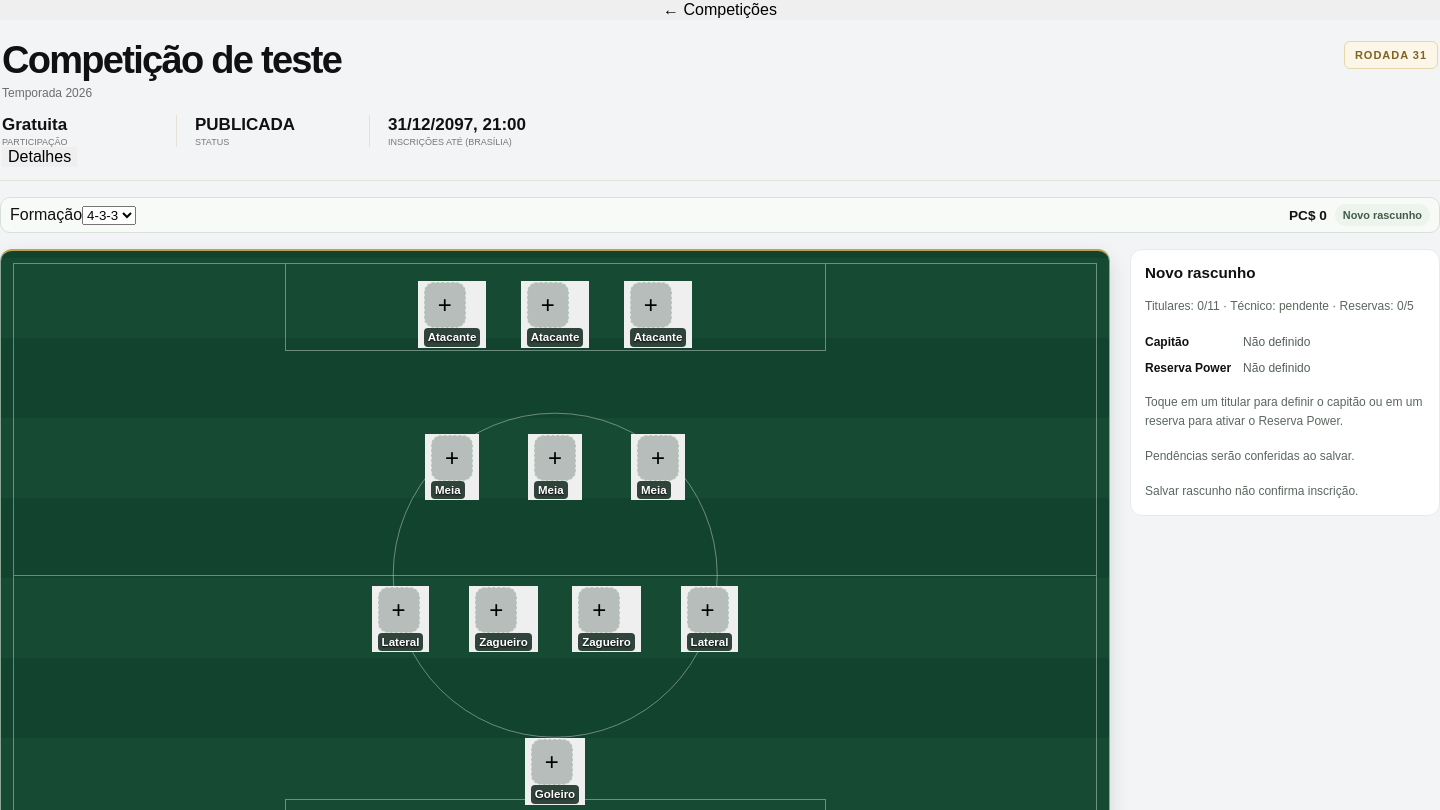
Test: Server public identity › cancels without losing formation or posting
Select "3-5-2" in the dropdown named "Formação tática" at (109, 215), box x1=82 y1=206 x2=136 y2=225
(page scrolled)
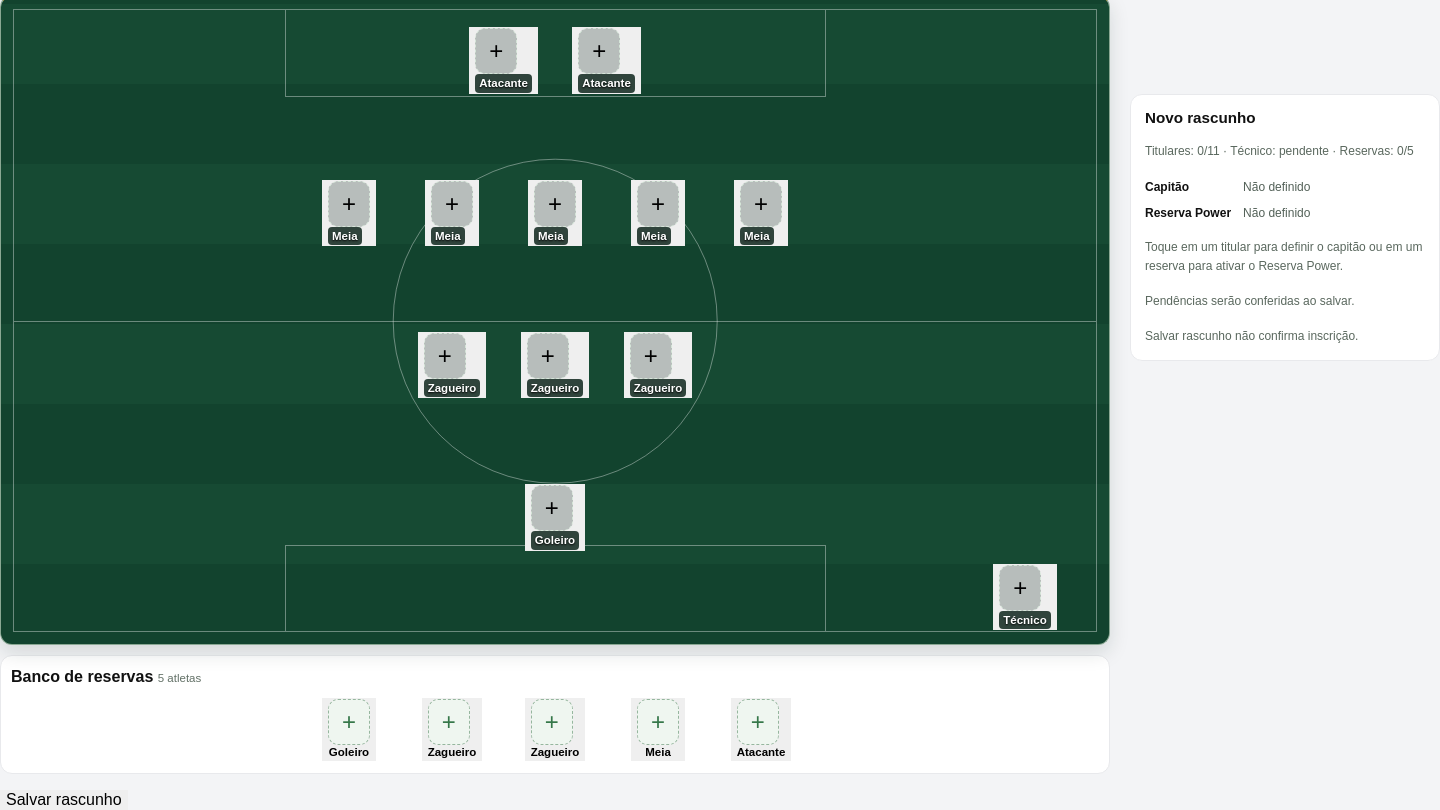
Click the button "Salvar rascunho".
click(64, 800)  # box x1=0 y1=790 x2=128 y2=809
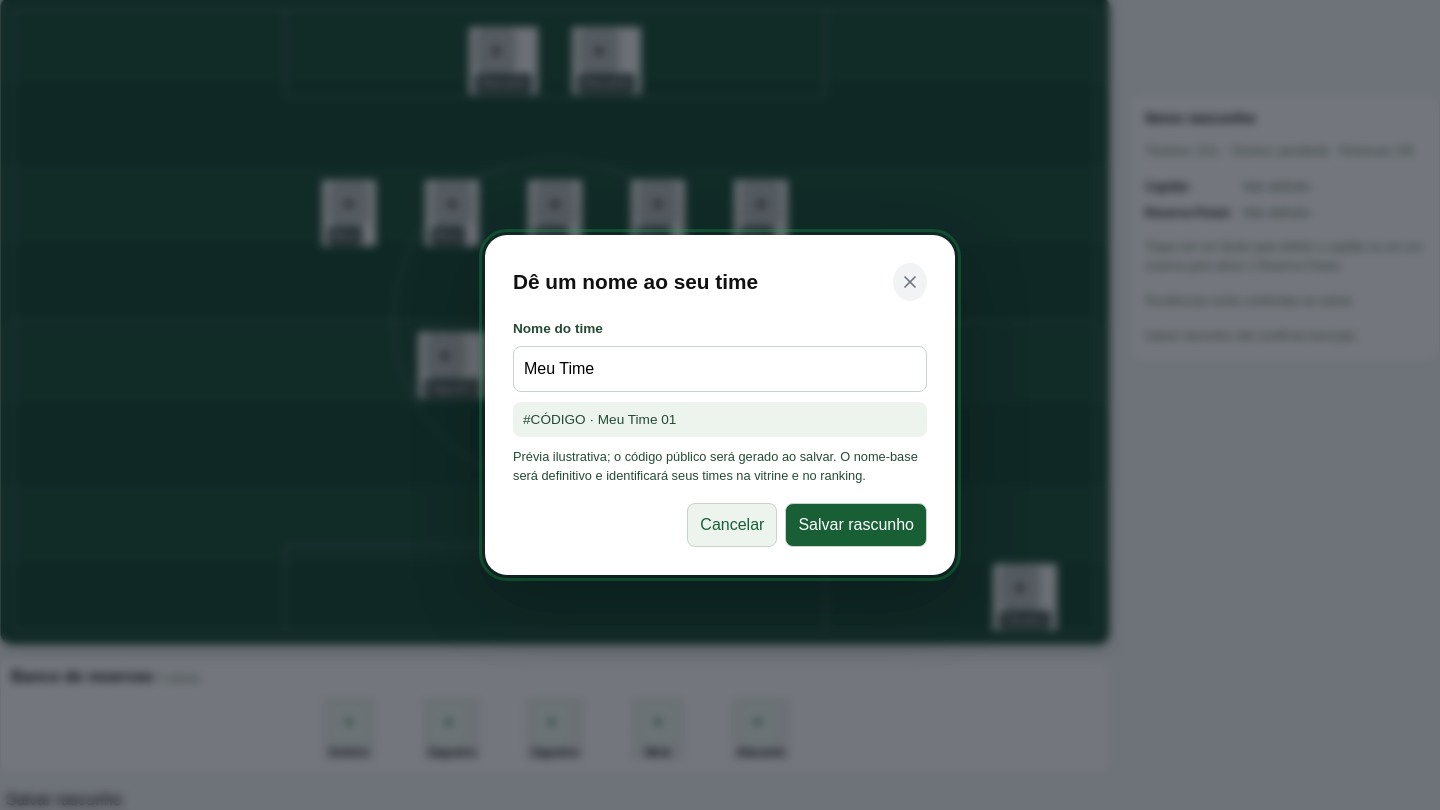
Click the button "Cancelar".
click(732, 525)  # box x1=687 y1=503 x2=777 y2=547
(page scrolled)
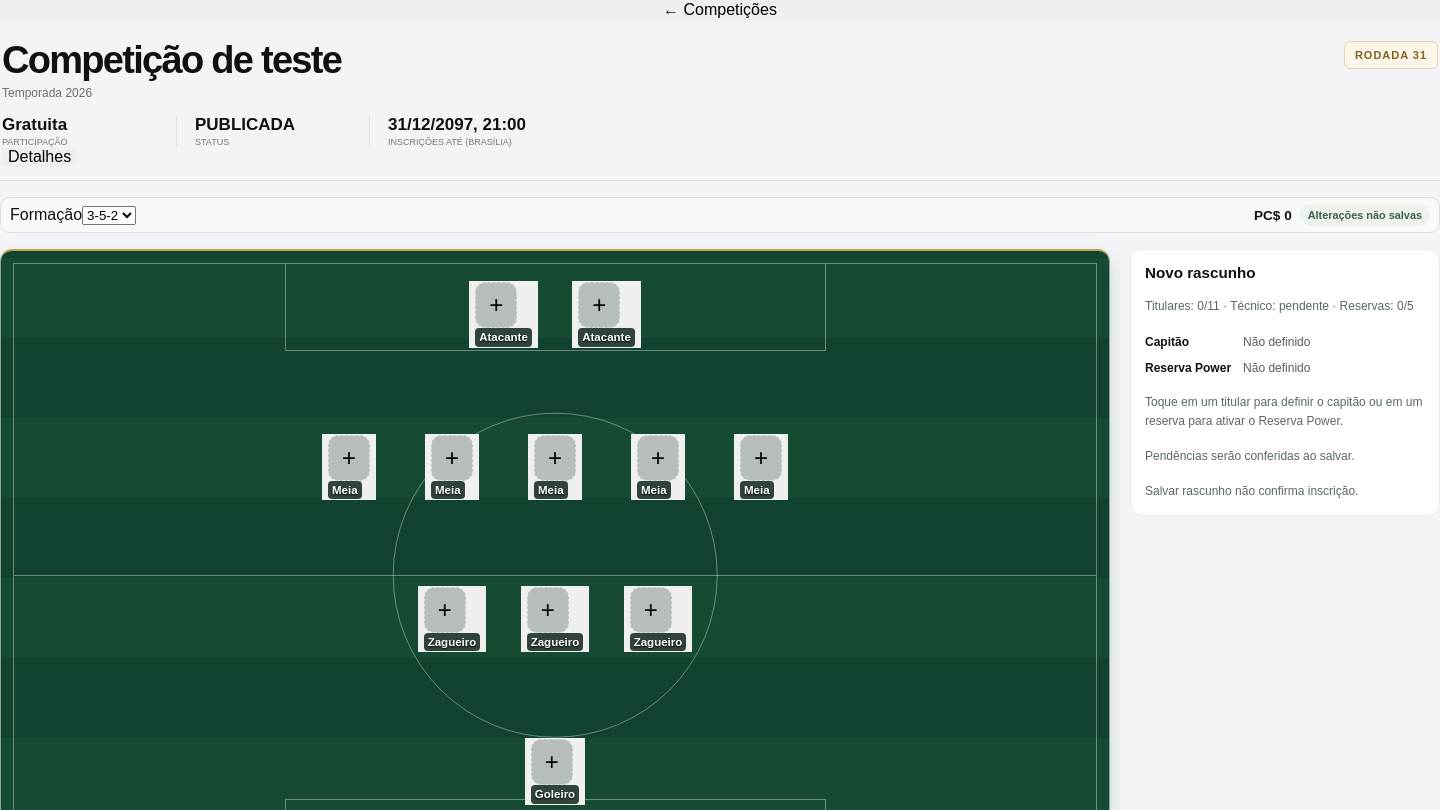
Result: the dialog is gone
